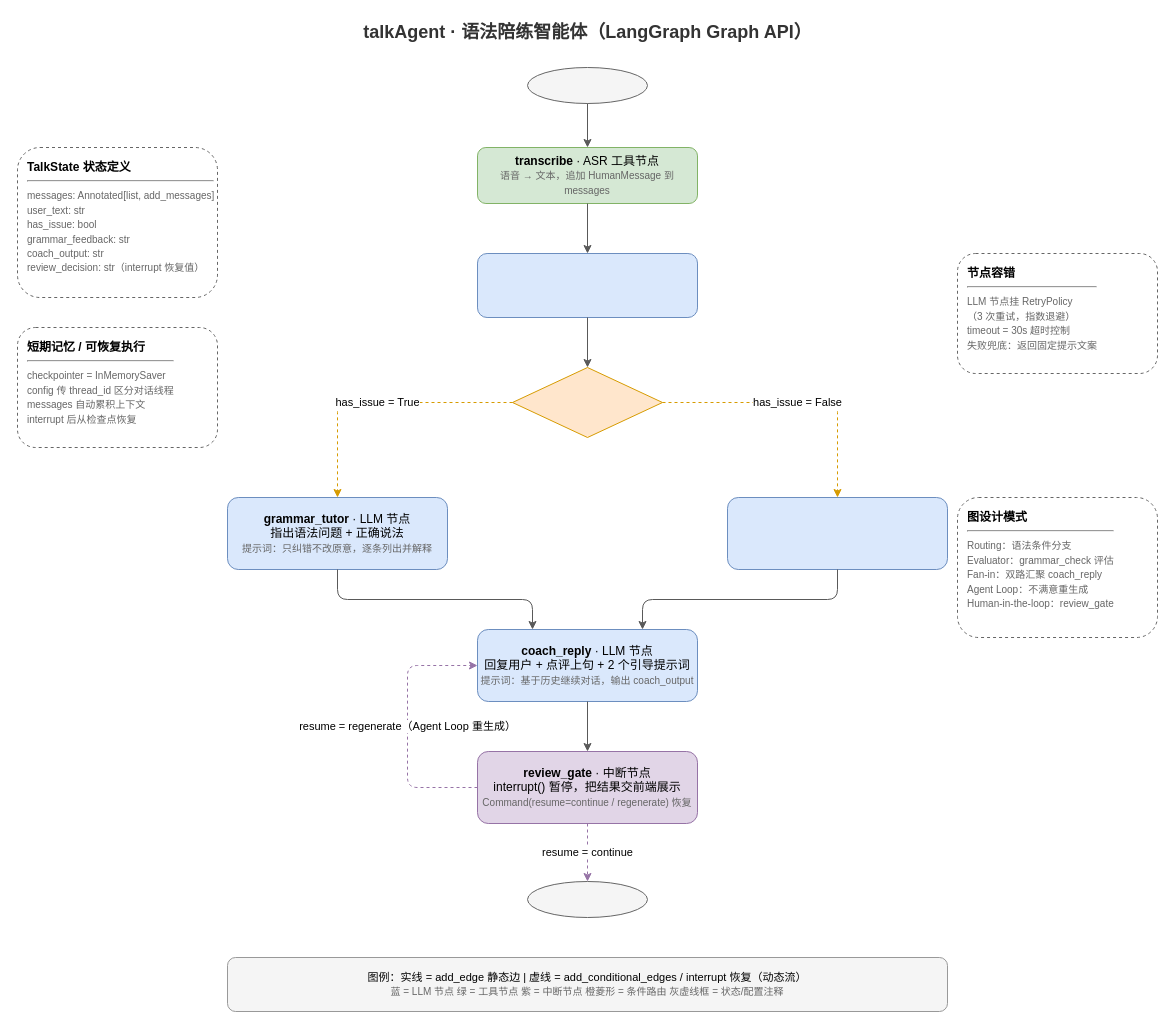
Some shapes in this 1175 by 1029 pixel diagram are drawn without their labels. The box of each missing label's shape, as (x1, y1, x2, y2) in pixels:
END: (526, 880, 648, 918)
grammar_check · LLM 评估节点 结构化输出 has_issue / issues 提示词：只判语法，不重写句子: (476, 252, 698, 318)
polisher · LLM 节点 拓展润色：更地道的表达 提示词：给出 2 个升级版并附点评: (726, 496, 948, 570)
route_by_grammar add_conditional_edges: (512, 366, 662, 438)
START: (526, 66, 648, 104)
